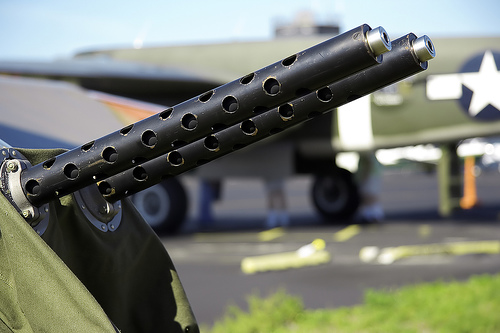rifle: (6, 18, 443, 246)
